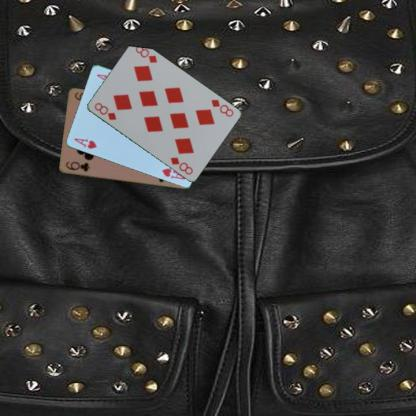6c: (63, 159, 91, 173)
8d: (208, 96, 235, 118), (92, 100, 118, 121)
Ah: (72, 136, 98, 150)
